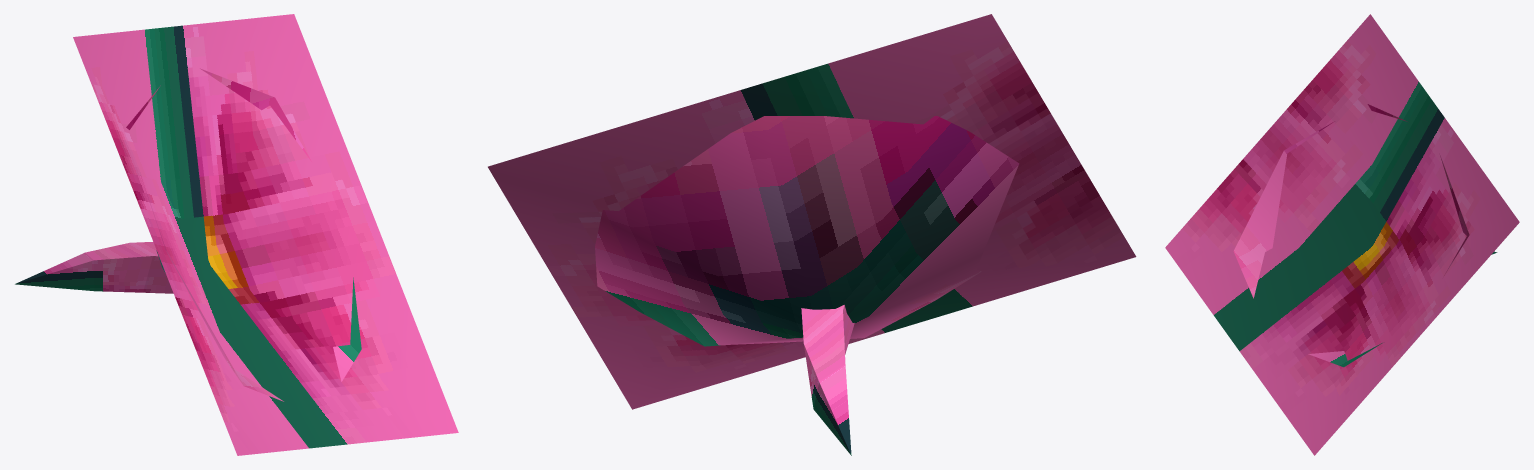
Rendered from flw_cosmos_pi_cap.dae.
3 views of the same model, side by side, from view 1: azimuth 30°, elevation 25°; view 2: azimuth 150°, elevation 25°; view 3: azimuth 270°, elevation 25° (orthographic). The views are drawn at different scales.
Visible parts, largest first — view 1: flw_cosmos_pi_cap; view 2: flw_cosmos_pi_cap; view 3: flw_cosmos_pi_cap.
Boxes of the visible parts, box(x1,y1,x2,y2) form: flw_cosmos_pi_cap: box(15, 14, 458, 455); flw_cosmos_pi_cap: box(488, 14, 1136, 455); flw_cosmos_pi_cap: box(1165, 14, 1519, 455).
Size of the model in its own units: 8.81 by 10.98 by 10.98.
1 material, 1 textured.
